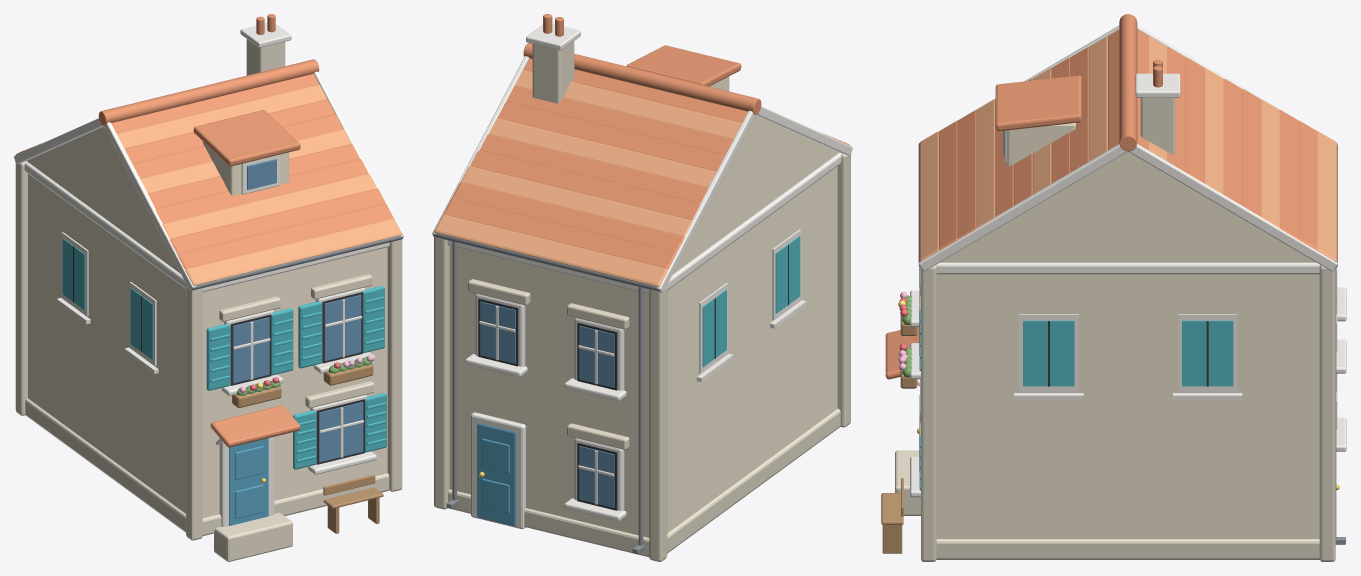
Rendered from terrace_f.fbx.
3 views of the same model, side by side, from view 1: azimuth 30°, elevation 25°; view 2: azimuth 150°, elevation 25°; view 3: azimuth 270°, elevation 25° (orthographic). The views are drawn at different scales.
Visible parts, largest first — view 1: Visual; view 2: Visual; view 3: Visual.
Part boxes in pixels (x1,y1,x2,y2): Visual: (14,14,403,561); Visual: (432,14,852,561); Visual: (881,14,1346,561).
Size of what is drawn, in the model's own units: 582 by 1113 by 937.
